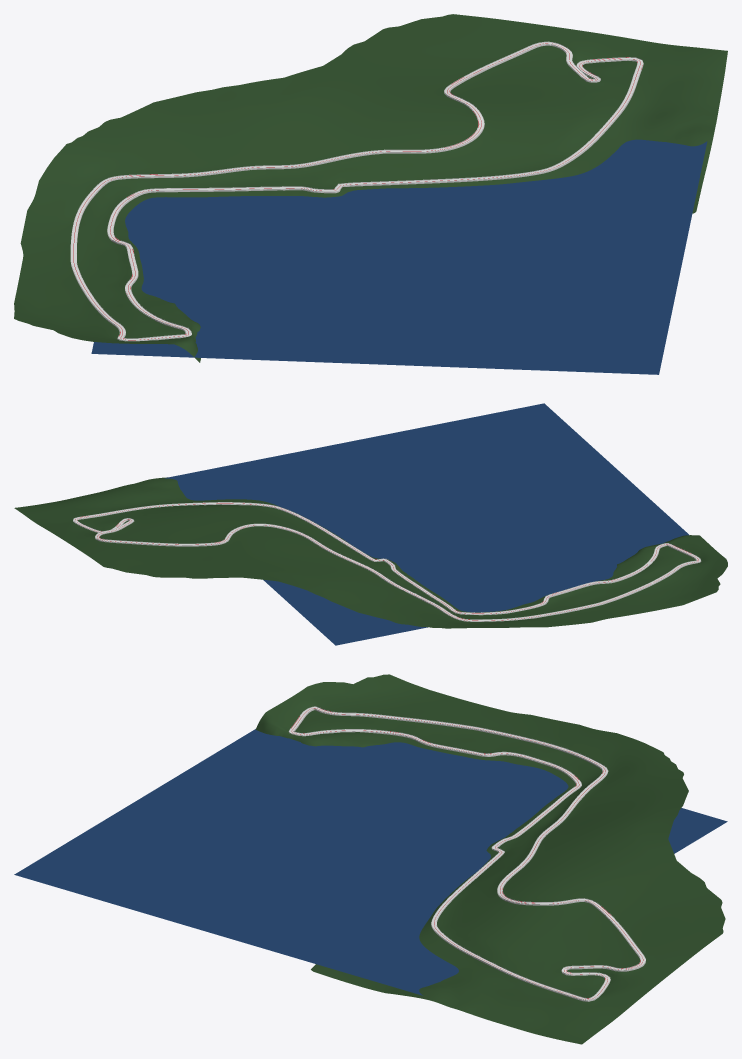
The model's file is Monaco.glb.
The picture shows the model from 3 angles, top to bottom: view 1: azimuth 30°, elevation 25°; view 2: azimuth 150°, elevation 25°; view 3: azimuth 270°, elevation 25°; orthographic projection. The views are drawn at different scales.
Parts seen in each view (by area): view 1: agua, tierra, asfalto, barrier; view 2: agua, tierra, asfalto, barrier; view 3: agua, tierra, asfalto, barrier.
Part boxes in pixels (x1=…): agua: x1=91, y1=139, x2=707, y2=374; tierra: x1=14, y1=14, x2=727, y2=362; asfalto: x1=70, y1=42, x2=643, y2=341; barrier: x1=71, y1=41, x2=643, y2=341; agua: x1=165, y1=403, x2=689, y2=645; tierra: x1=14, y1=477, x2=727, y2=628; asfalto: x1=73, y1=502, x2=700, y2=621; barrier: x1=73, y1=502, x2=700, y2=621; agua: x1=14, y1=729, x2=727, y2=995; tierra: x1=255, y1=674, x2=725, y2=1044; asfalto: x1=289, y1=707, x2=645, y2=1001; barrier: x1=288, y1=706, x2=645, y2=1000.
Bounding box in the file's own units: 307 × 15.74 × 257.
